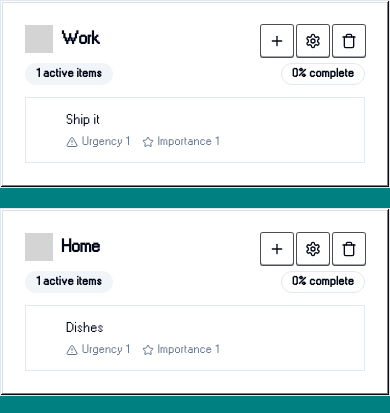
Scenario: FolderViewCards › hides a list immediately when delete is clicked
Expected: the text "Work" is shown, [61,25,100,53]
Click the button named "Delete Work": point(349, 41) [333,25,365,57]
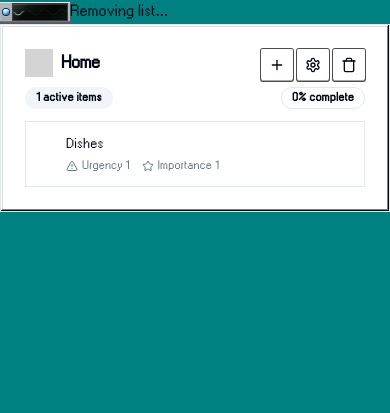
Expected: the text "Home" is shown, [61,49,100,77]
Expected: the text "Work" is gone
